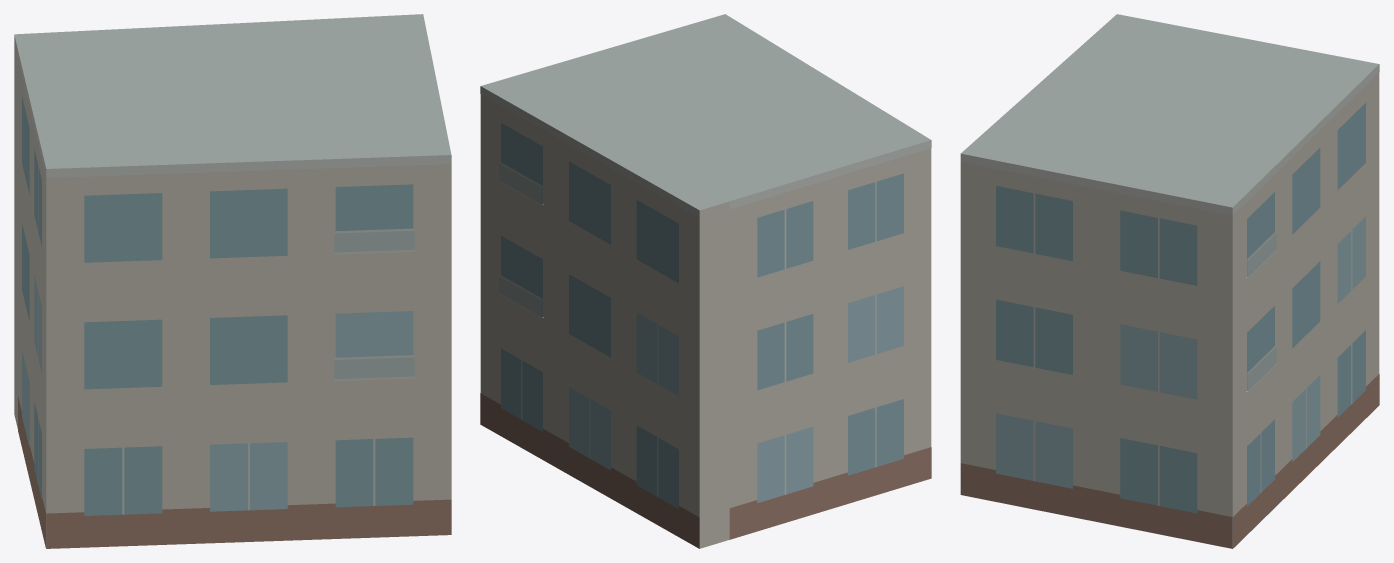
Rendered from survey-upis-32679208.glb.
3 views of the same model, side by side, from view 1: azimuth 30°, elevation 25°; view 2: azimuth 150°, elevation 25°; view 3: azimuth 270°, elevation 25° (orthographic). The views are drawn at different scales.
Visible parts, largest first — view 1: survey-upis-32679208.tmp; view 2: survey-upis-32679208.tmp; view 3: survey-upis-32679208.tmp.
Boxes of the visible parts, bbox=[...] form: survey-upis-32679208.tmp: bbox=[14, 14, 451, 548]; survey-upis-32679208.tmp: bbox=[480, 14, 931, 548]; survey-upis-32679208.tmp: bbox=[960, 14, 1379, 548].
Bounding box in the file's own units: 12.42 × 10.2 × 11.35.
